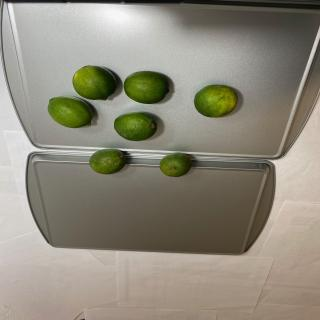Apple: (114, 112, 157, 141), (160, 152, 192, 177)
Lemon: (72, 65, 117, 101), (193, 84, 238, 118), (47, 95, 93, 128), (124, 71, 170, 104), (89, 148, 126, 174)
